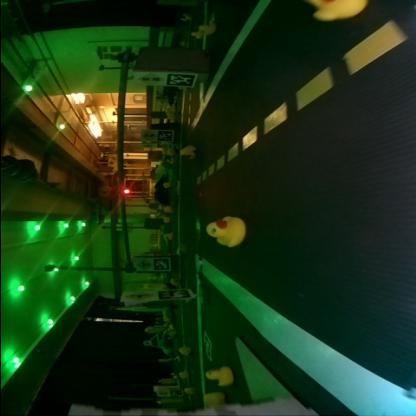Duckie: (305, 0, 364, 21), (204, 215, 242, 245), (204, 366, 232, 386), (178, 145, 194, 158), (198, 22, 214, 34)
Intersection sign: (123, 292, 151, 300), (135, 259, 151, 269)
QR code: (165, 73, 193, 85), (155, 289, 189, 297), (201, 332, 209, 360), (154, 258, 168, 270), (156, 130, 170, 140)
Signal sign: (136, 72, 163, 84), (140, 130, 154, 139)
Traffic light: (121, 188, 129, 194)
